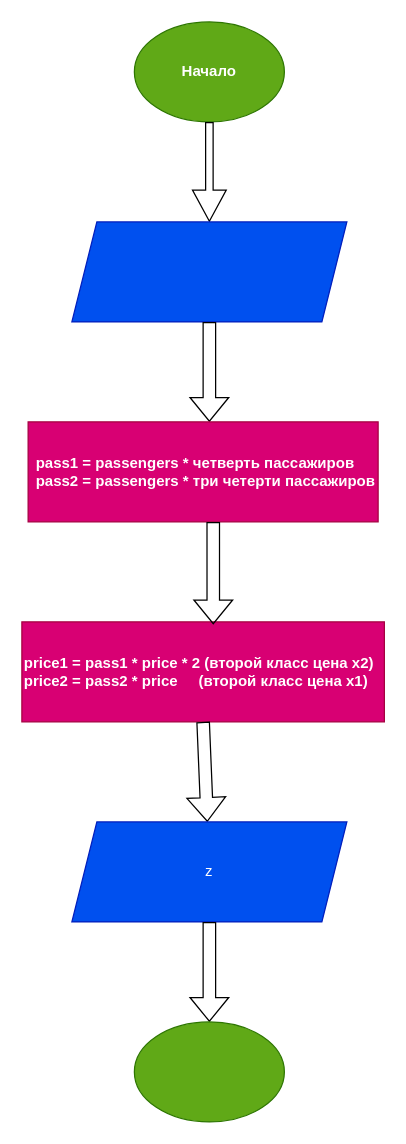
This 406x1144 diagram has some shape labels left out. The shapes that lost their labels are listed below. From the top down, each one's centre as x and y in pixels, then its label:
At point 209,271: "passengers, price".
At point 208,1071: "Конец".
